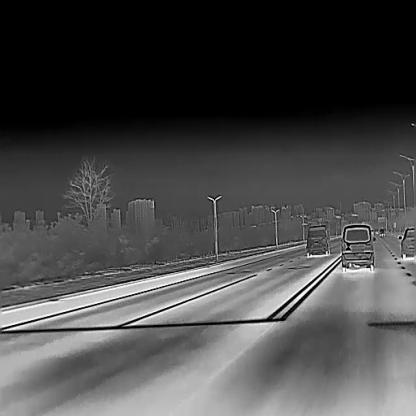car: (339, 222, 376, 271), (305, 223, 331, 256), (397, 224, 416, 259), (379, 227, 385, 237)
